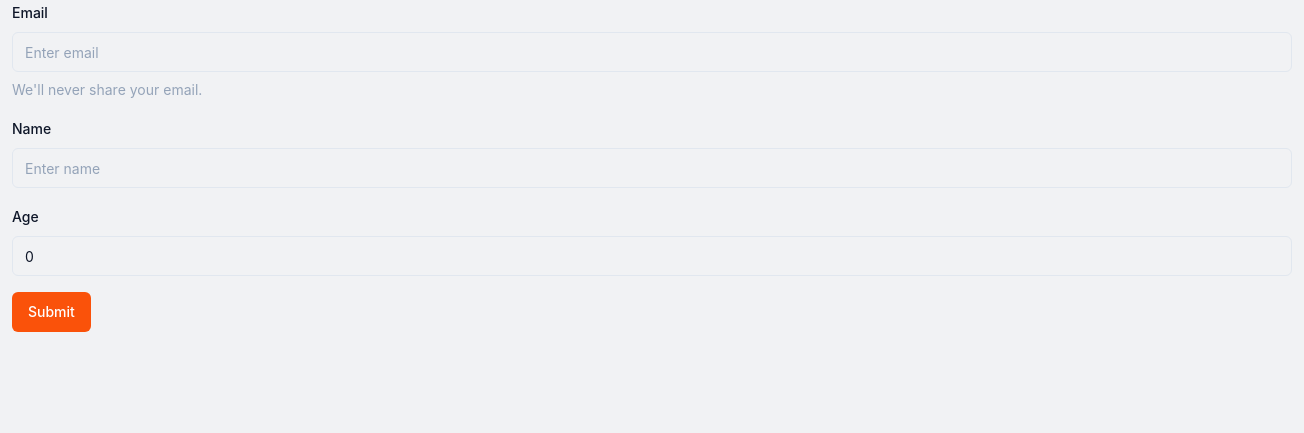
Test: Form Components › FormMessage Component › shows error messages when validation fails
The image size is (1304, 433).
Click the button "Submit" at (51, 312), box [12, 292, 91, 332]
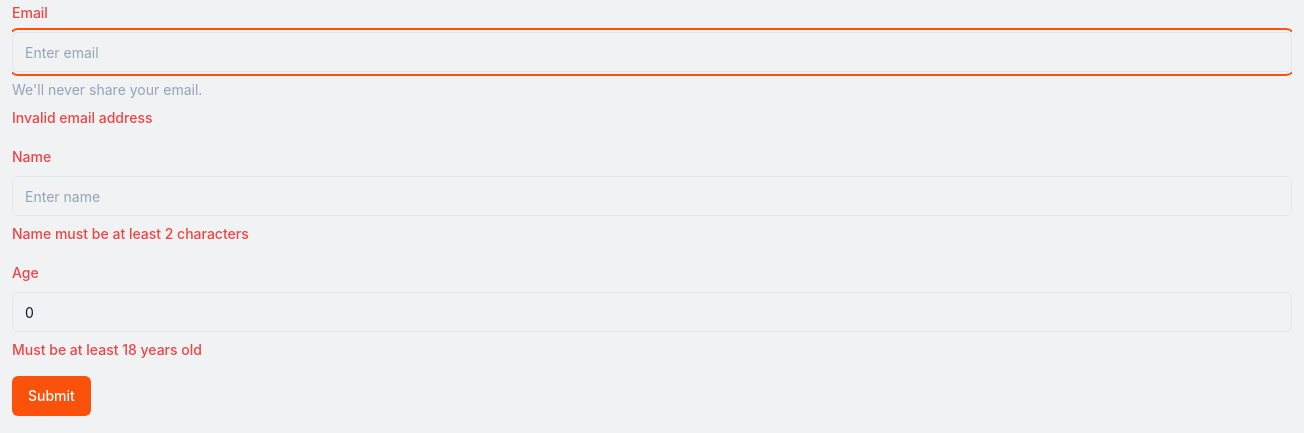
Expected: the text "Invalid email address" is shown, [12, 109, 152, 126]
